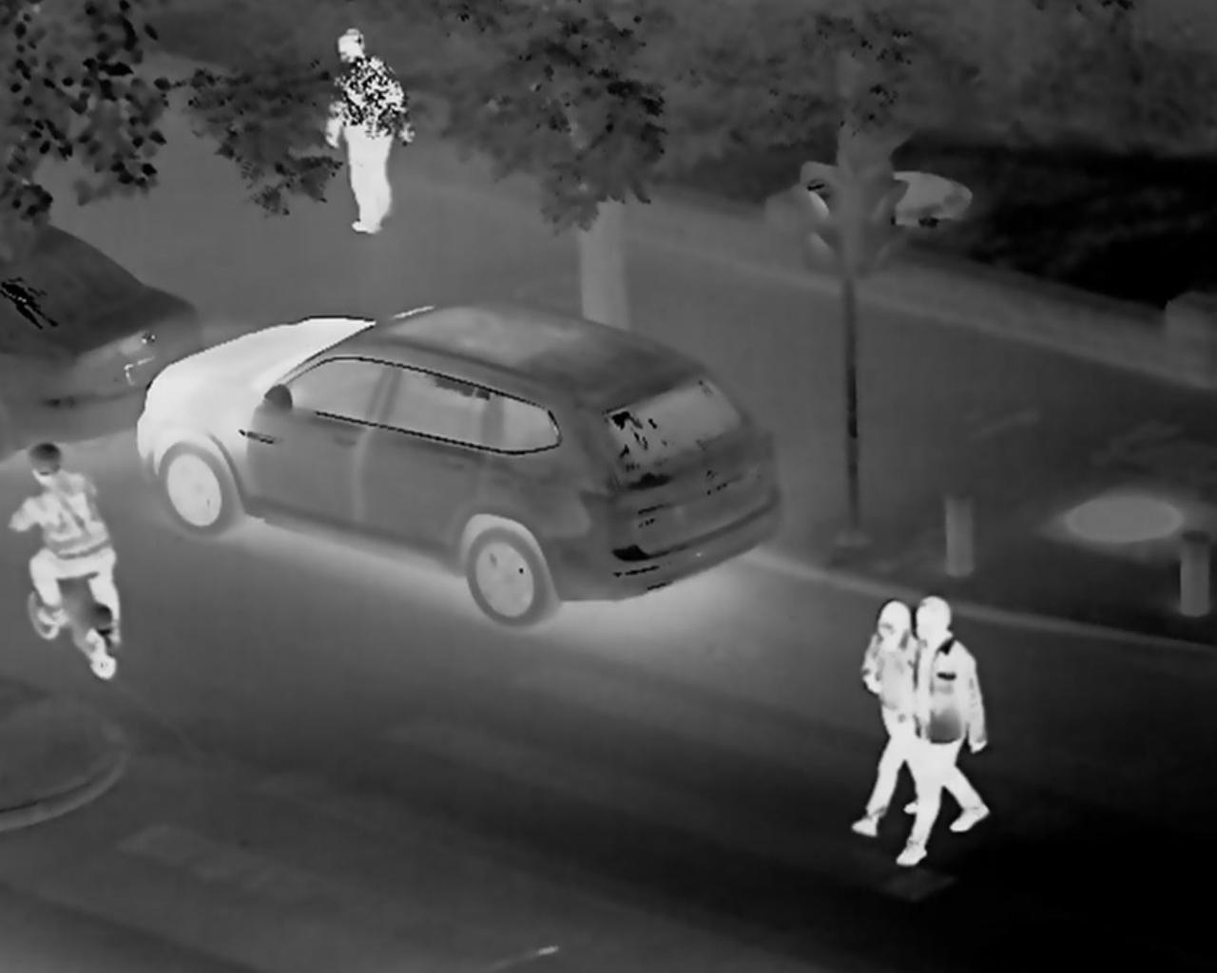person: (23, 431, 142, 663), (326, 34, 434, 283), (904, 596, 1002, 864), (866, 584, 900, 806)
